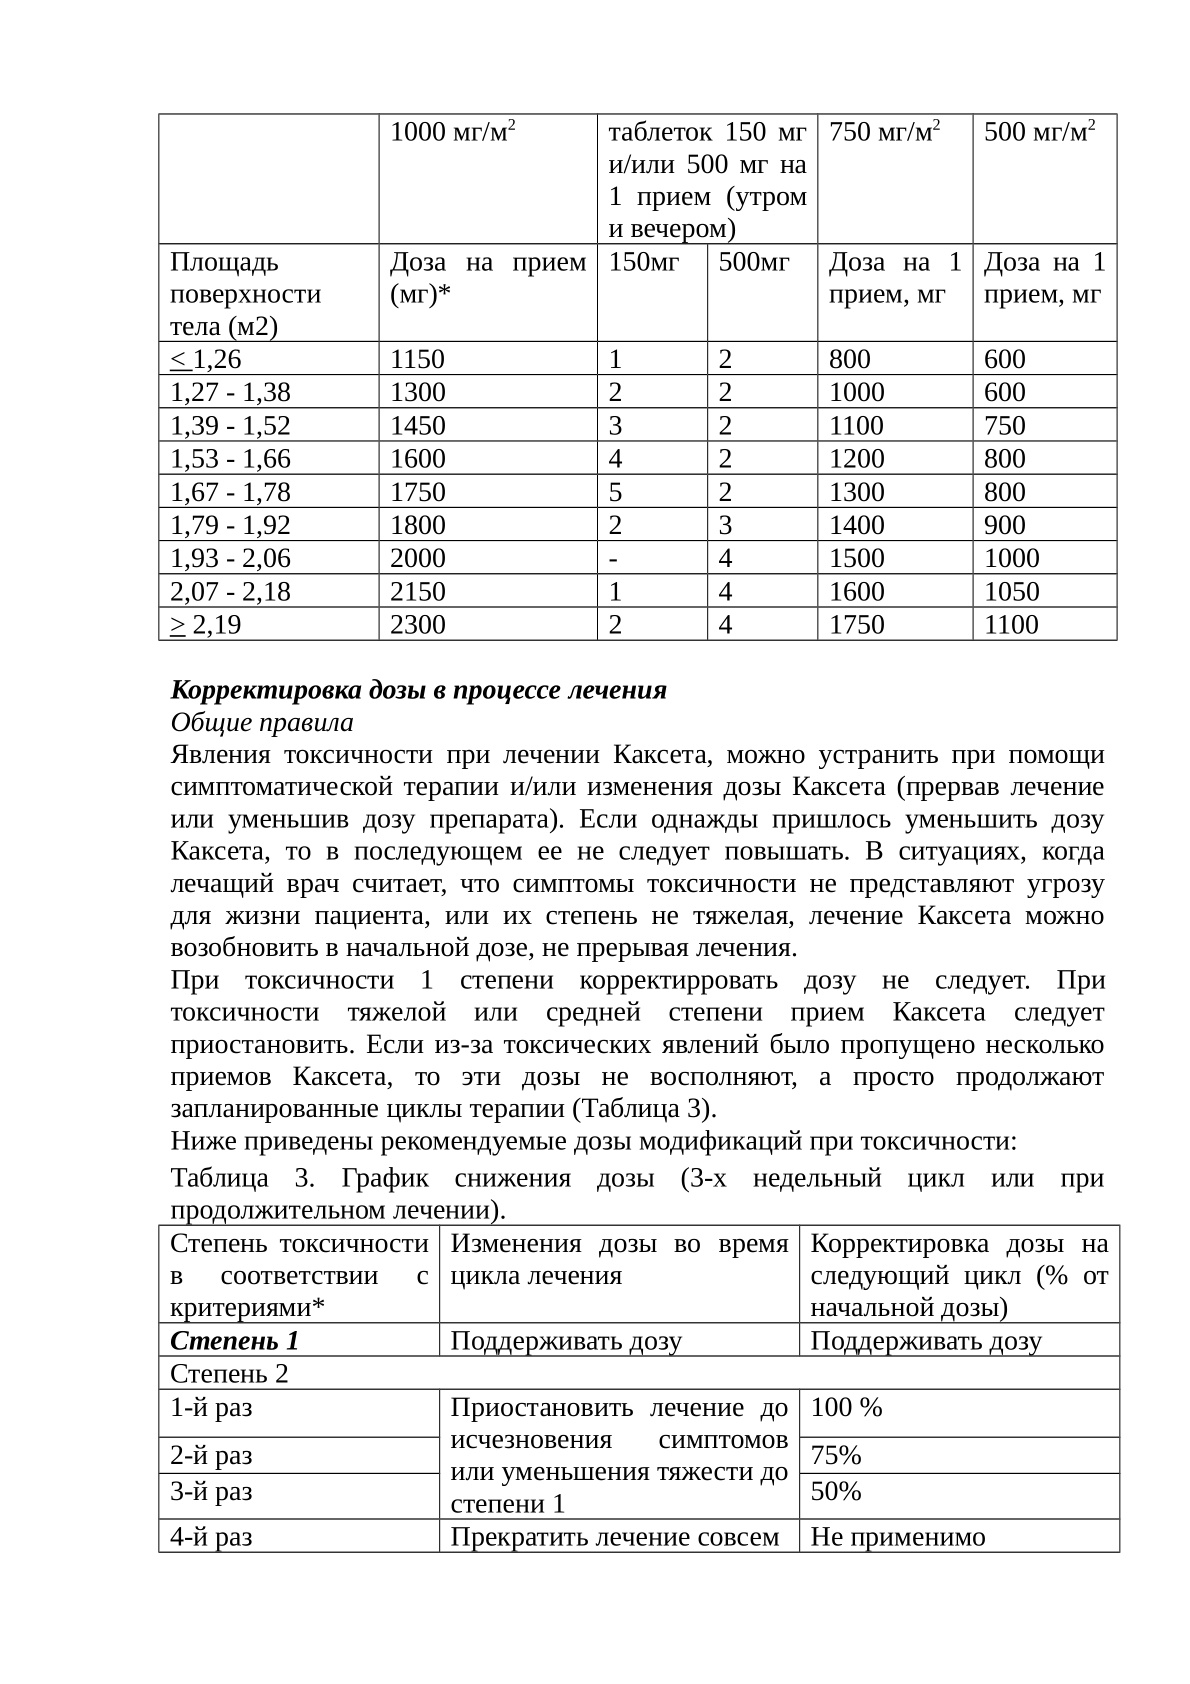full_lined: (157, 112, 1119, 642)
merged_cells: (157, 1223, 1122, 1554)
